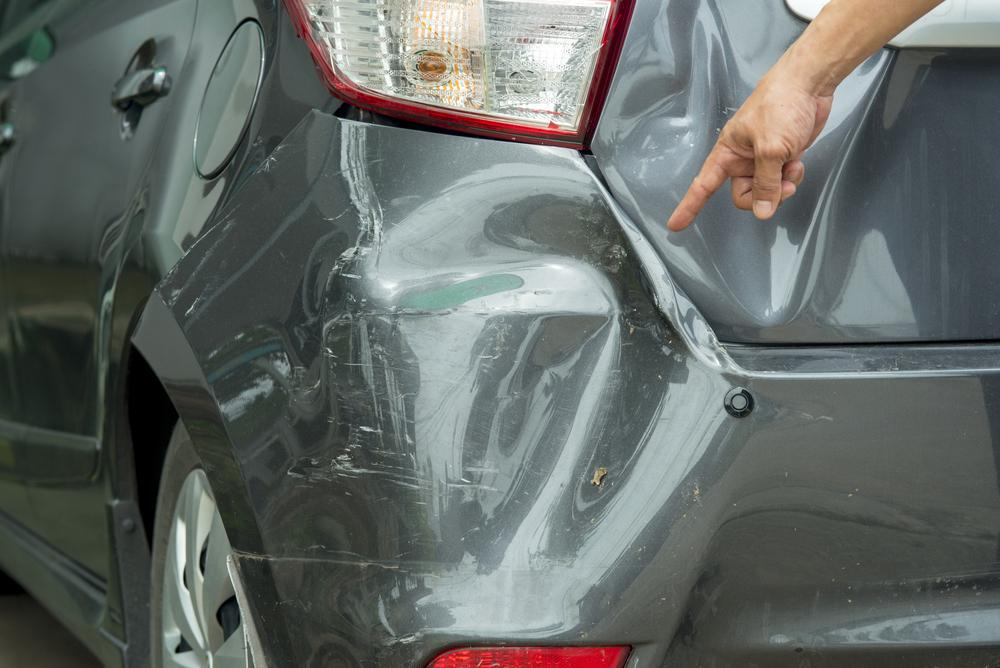dent: (355, 173, 729, 641), (684, 132, 845, 318), (603, 0, 712, 187)
scratch: (280, 244, 421, 503)
